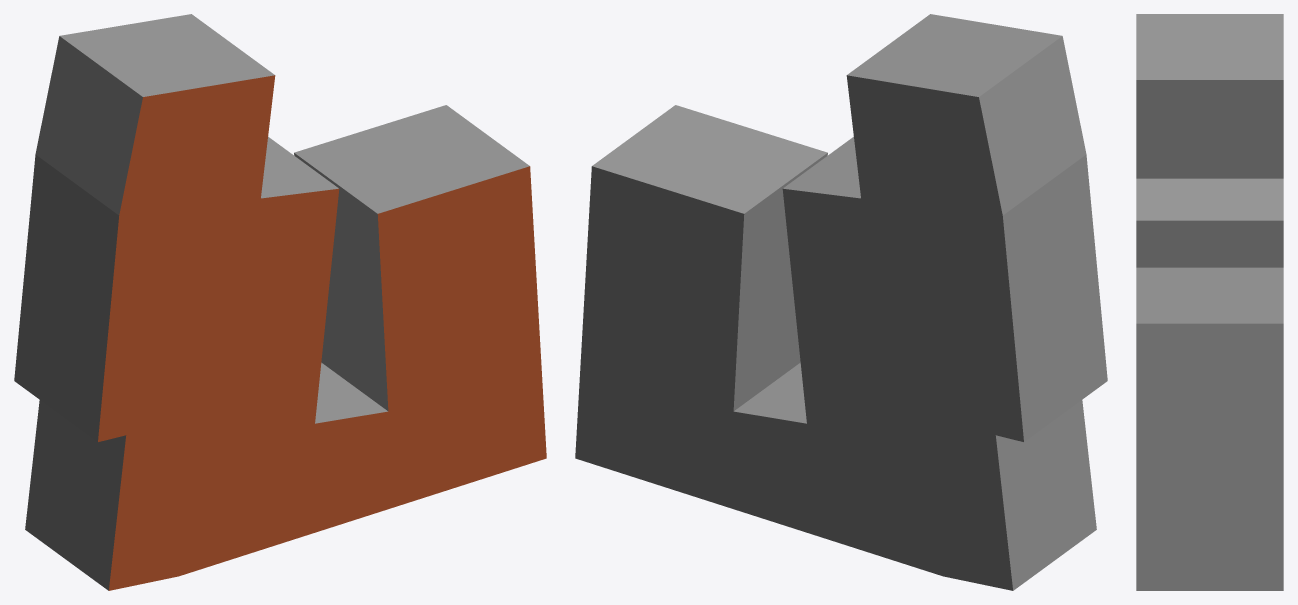
File: construction_6897_assumed_A_Casa_h6m.obj
3 views of the same model, side by side, from view 1: azimuth 30°, elevation 25°; view 2: azimuth 150°, elevation 25°; view 3: azimuth 270°, elevation 25° (orthographic). The views are drawn at different scales.
Visible parts, largest first — view 1: construction_6897_assumed_A_Casa; view 2: construction_6897_assumed_A_Casa; view 3: construction_6897_assumed_A_Casa.
Part boxes in pixels (x1,y1,x2,y2): construction_6897_assumed_A_Casa: (14,14,546,590); construction_6897_assumed_A_Casa: (575,14,1107,590); construction_6897_assumed_A_Casa: (1136,14,1283,590).
Size of the model in its own units: 18.58 by 19.3 by 6.
